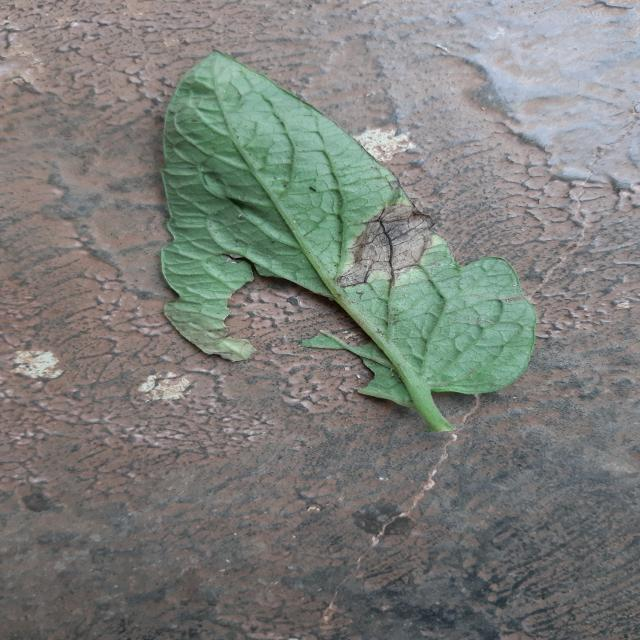defectedtomato: (336, 204, 438, 288)
tomato: (162, 51, 538, 431)
